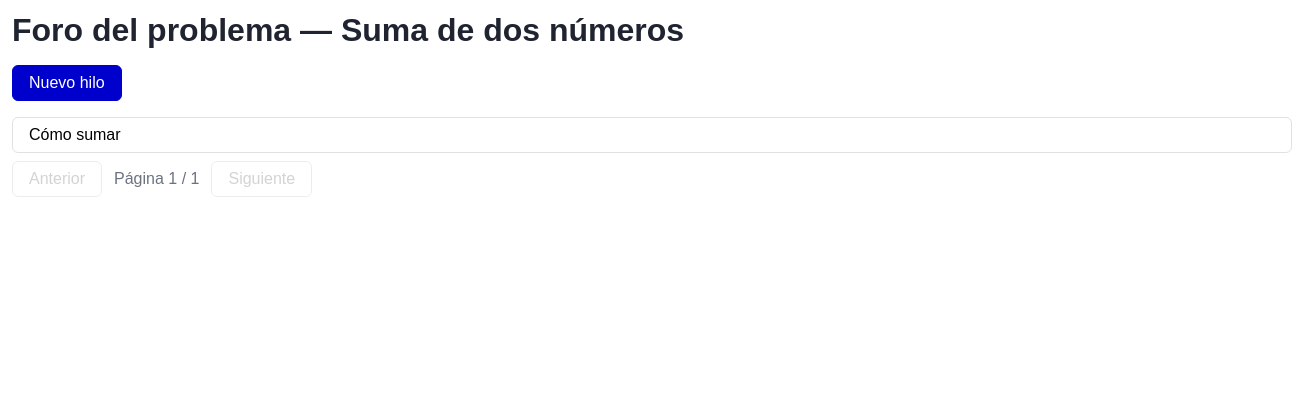
it: ThreadDetail — nested reply tree › renders a top-level post without depth indent (data-depth=0)
The image size is (1304, 420).
Expected: the element with test id "forum-page" is shown, x1=12 y1=12 x2=1292 y2=197
Click the button with test id "thread-2".
click(75, 134)  # box x1=12 y1=117 x2=1292 y2=153
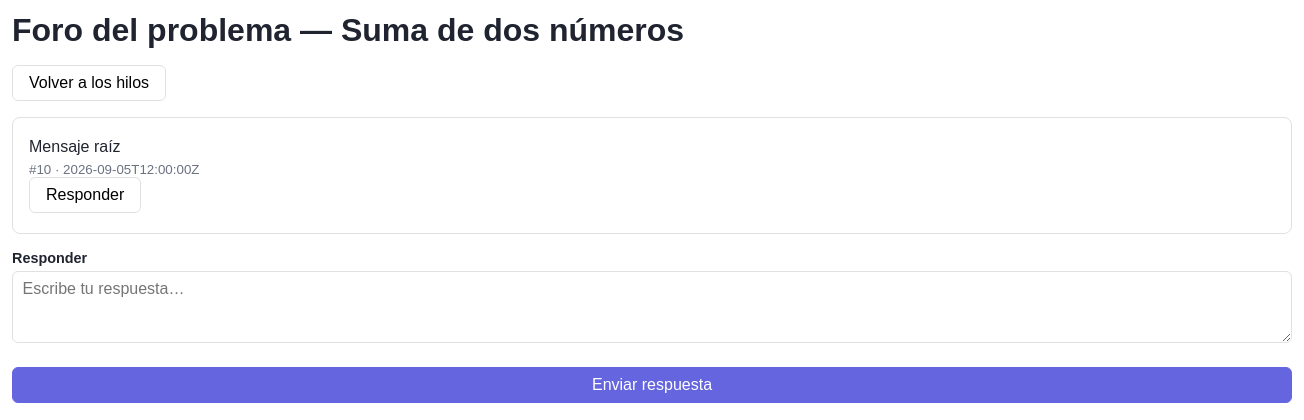
Result: the element with test id "thread-detail" is shown
